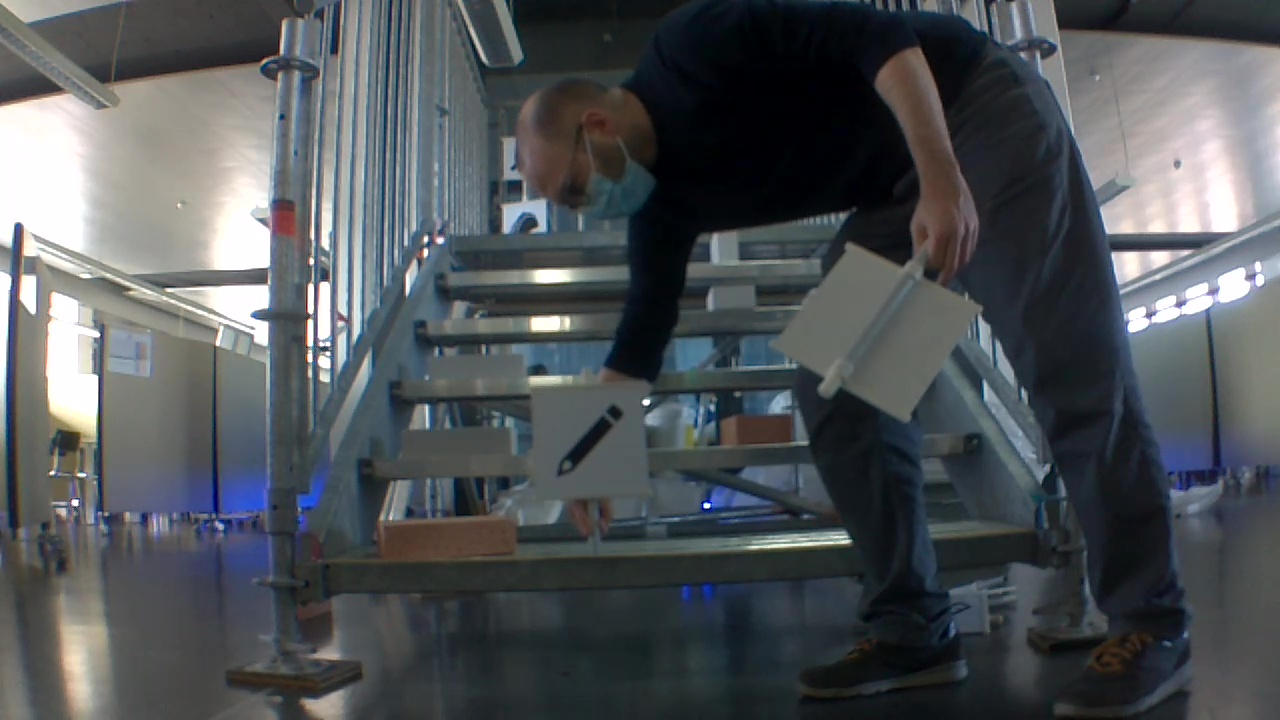brick: (376, 515, 519, 557), (398, 422, 516, 461), (422, 351, 527, 382), (716, 414, 791, 446), (703, 283, 759, 314), (708, 227, 741, 267)
edge: (319, 542, 858, 601)
pencil: (556, 402, 625, 478)
taco: (511, 207, 543, 234)
